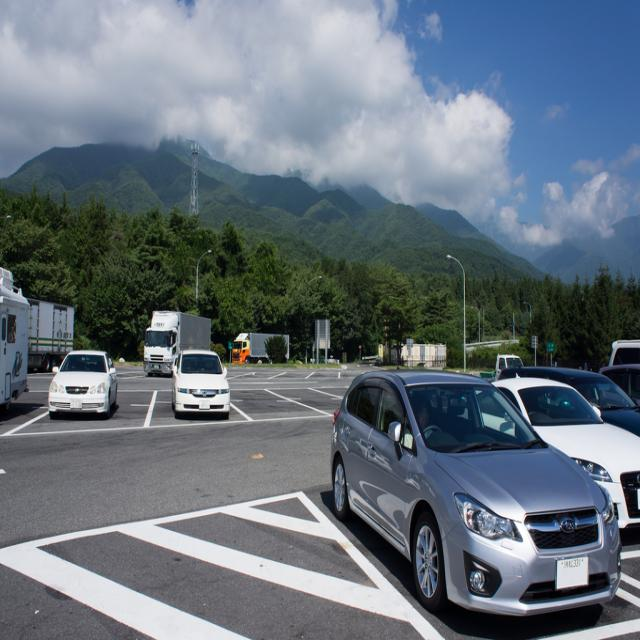other: (330, 337, 639, 618), (48, 346, 118, 418), (172, 350, 230, 416)
